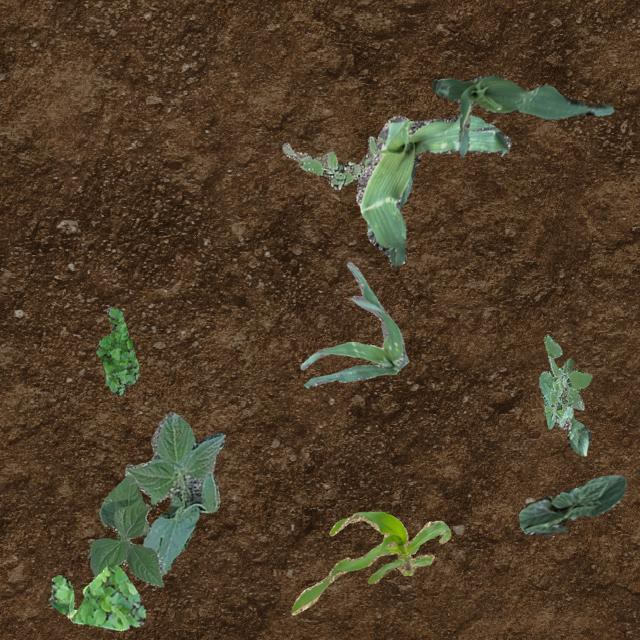crop: (354, 113, 510, 264), (290, 511, 450, 614), (123, 412, 224, 574), (432, 74, 612, 156), (300, 262, 408, 386), (88, 474, 162, 586), (518, 474, 626, 534), (554, 404, 590, 456)
weed: (44, 564, 144, 630), (538, 334, 590, 428), (282, 136, 376, 188), (94, 306, 138, 396)
